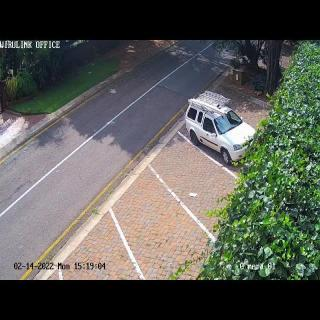car: (184, 90, 256, 165)
